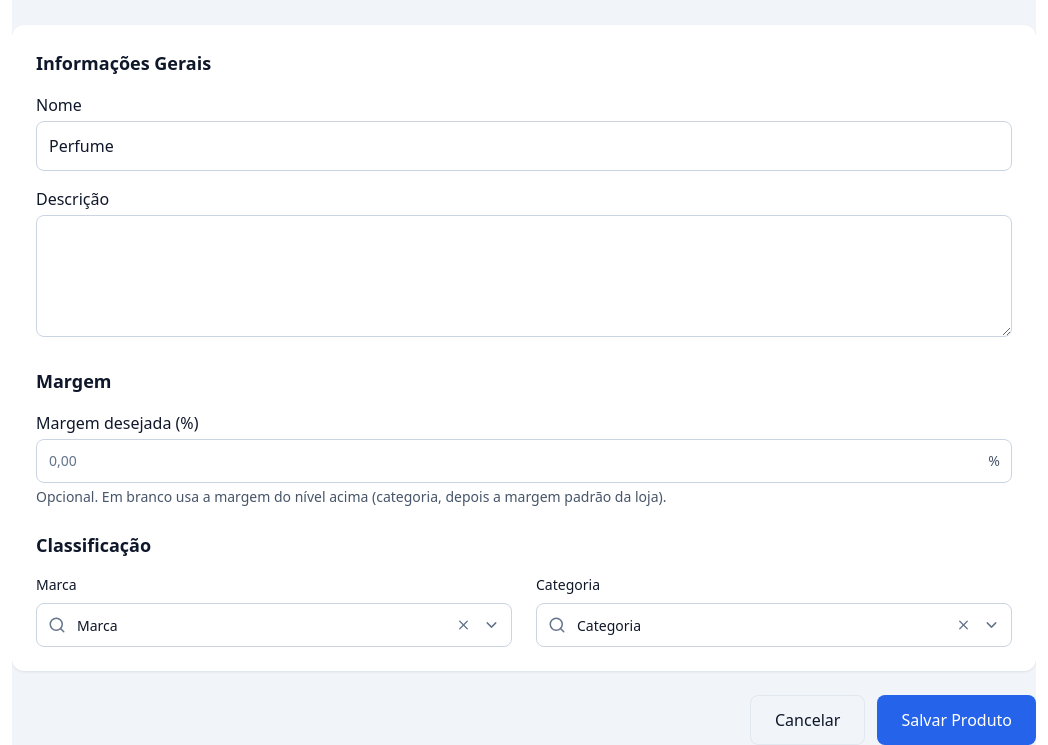
ProductForm › mostra erro do backend para campo que o formulário não renderiza
Click the button "Salvar Produto" at coordinates (957, 720), box top-left (877, 695), bottom-right (1036, 744)
(page scrolled)
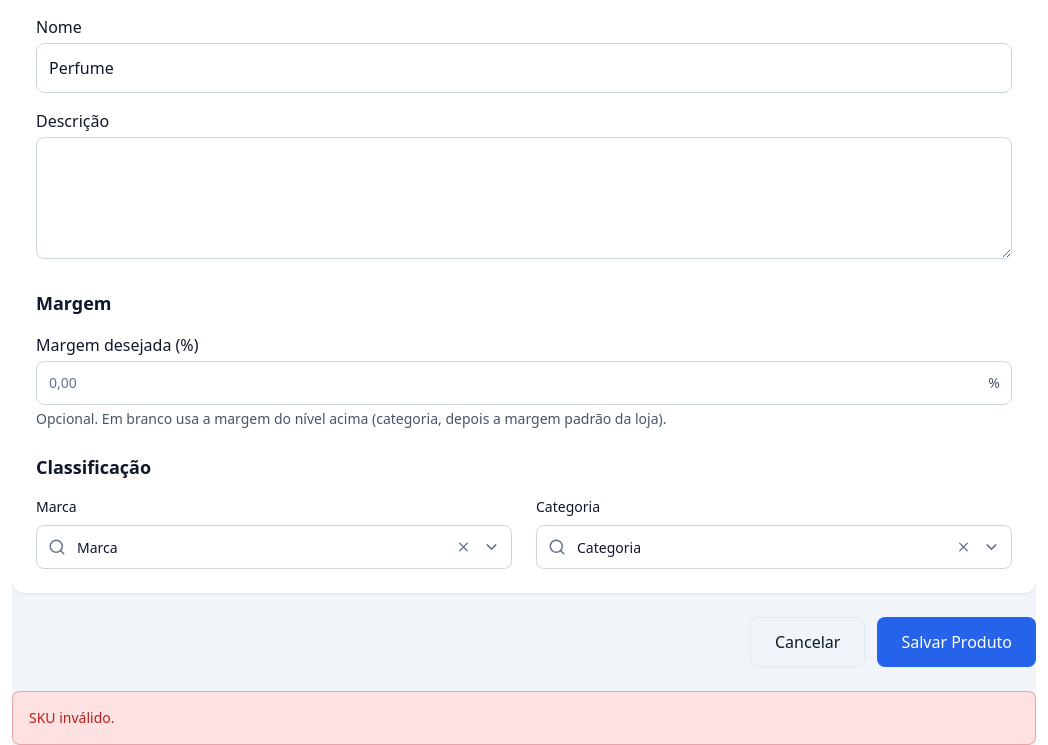
Check: the text "SKU inválido." is shown, box top-left (12, 691), bottom-right (1036, 744)
